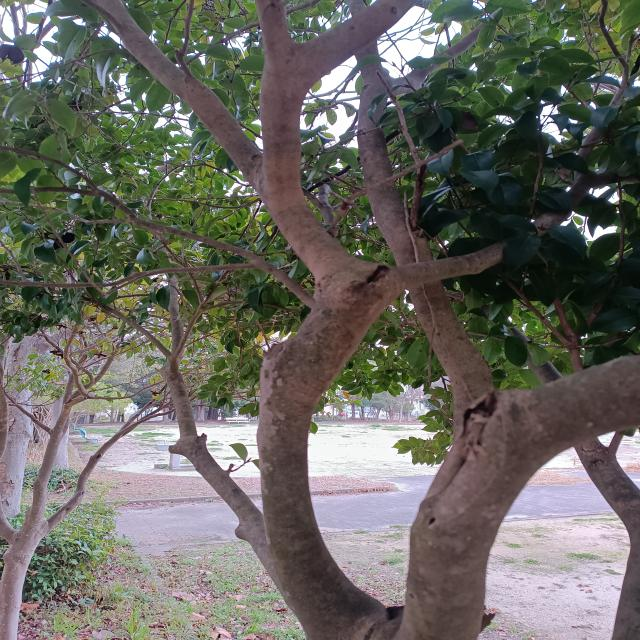Branch: (395, 356, 638, 640), (257, 254, 393, 636), (158, 360, 279, 585), (358, 77, 433, 267), (410, 282, 494, 417), (251, 167, 345, 276), (260, 42, 316, 170)
Twig: (83, 1, 259, 181), (395, 173, 606, 291), (126, 216, 314, 311), (302, 1, 418, 79), (0, 262, 256, 288), (395, 25, 487, 93), (83, 296, 171, 355), (2, 146, 97, 189), (3, 200, 129, 226), (254, 0, 292, 63), (175, 301, 206, 358), (168, 275, 186, 366), (354, 38, 391, 78), (93, 188, 136, 217), (0, 186, 93, 195), (207, 270, 229, 300), (204, 301, 250, 311), (189, 272, 203, 304)
